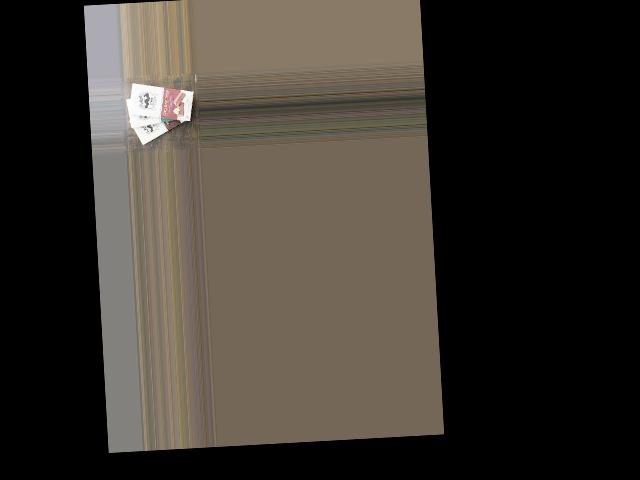chocolate: (126, 100, 196, 146)
